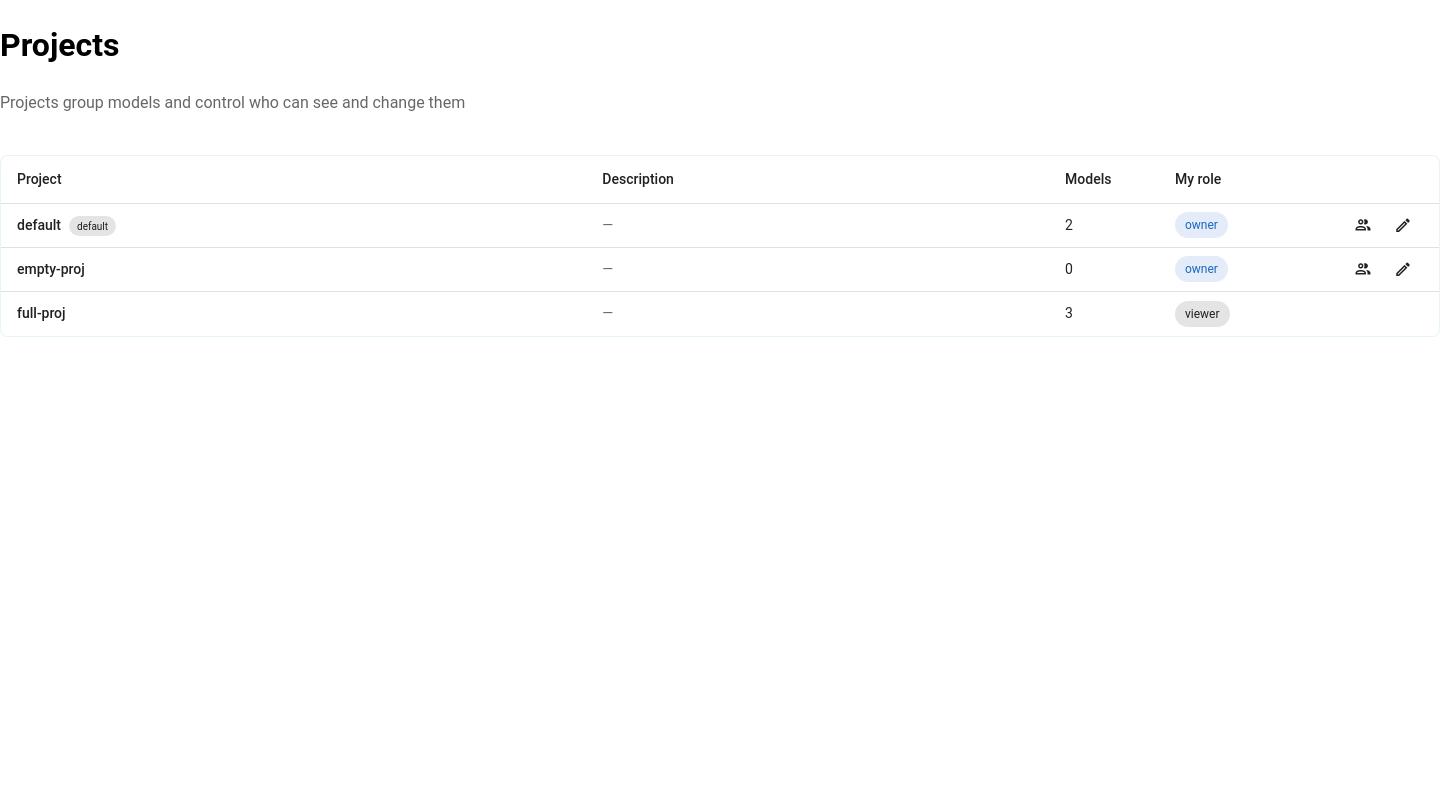
Scenario: ProjectsPage members › shows API errors such as a duplicate member
Click the button named "Members of empty-proj" at (1363, 269), box [1343, 249, 1383, 289]
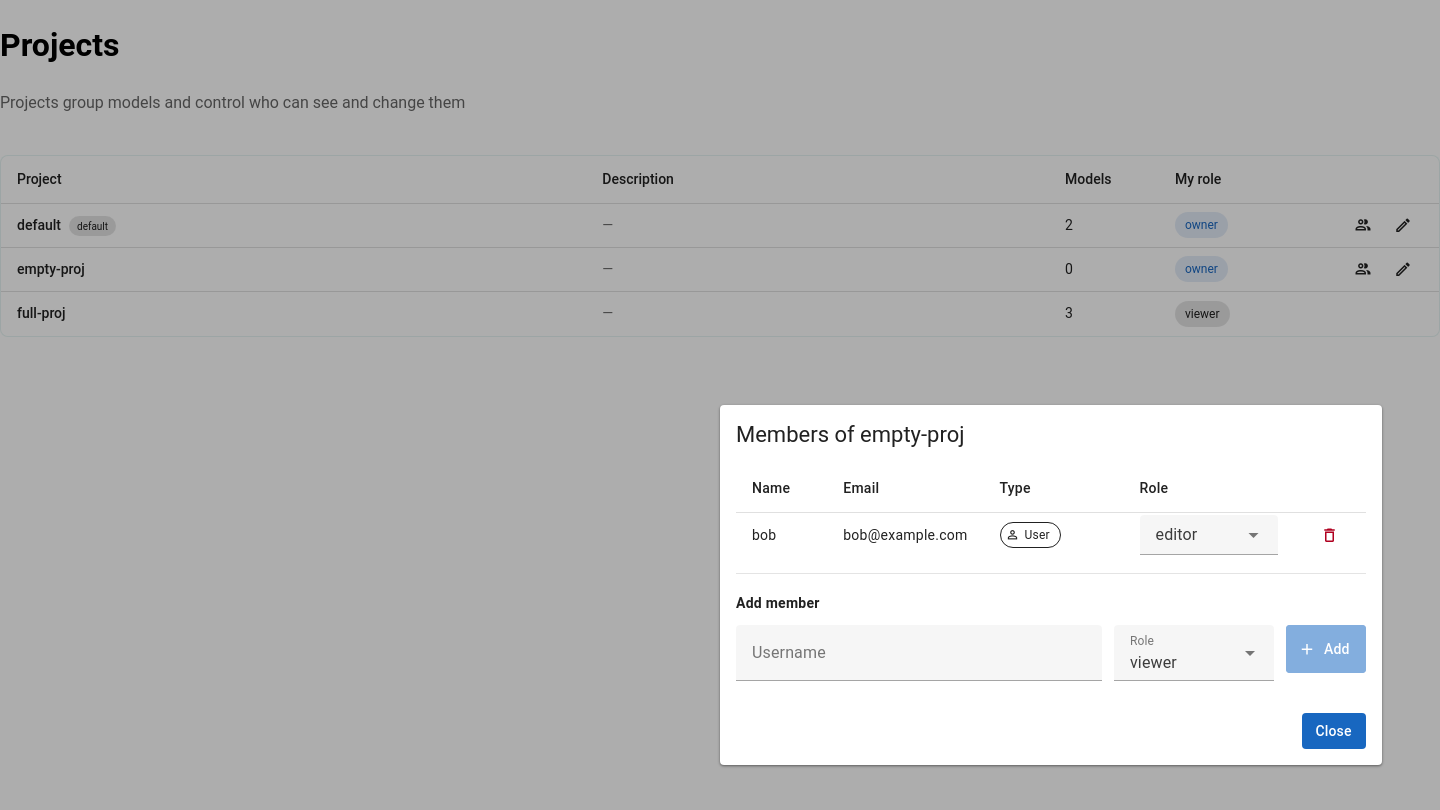
Type "bob" into the field labelled "Username" at (919, 653), box [736, 625, 1102, 681]
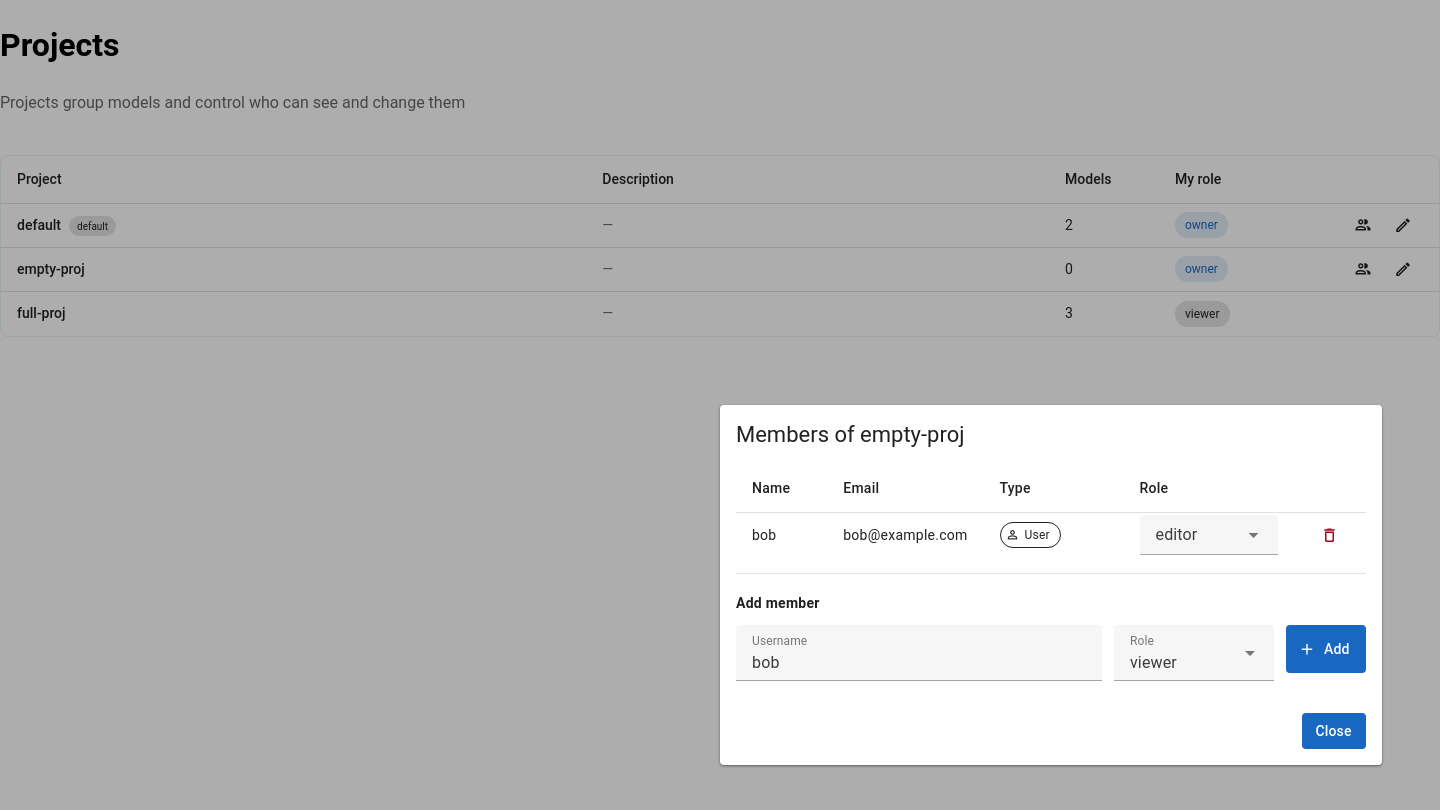
Click the button with test id "add-member" at (1326, 649), box [1286, 625, 1366, 673]
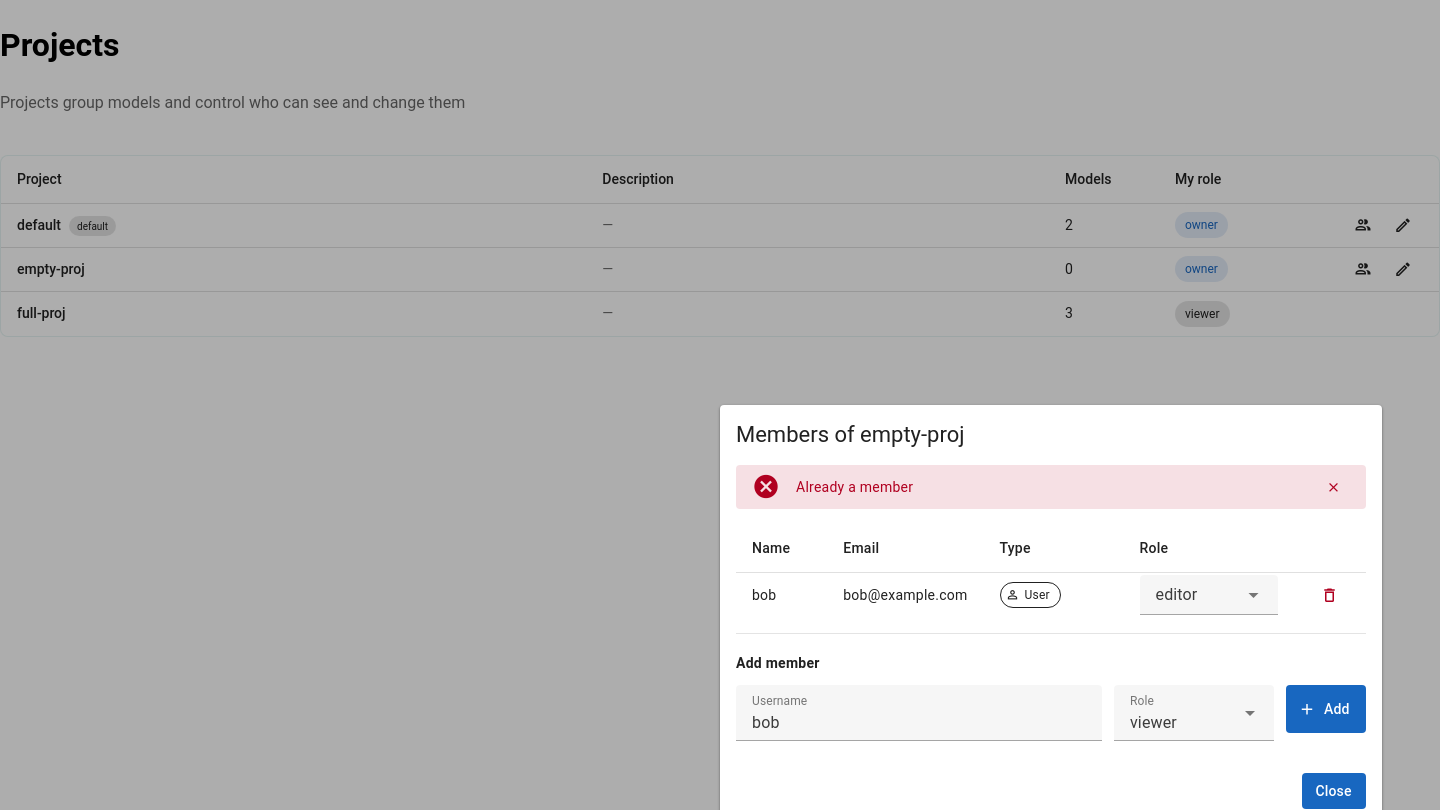
Now the element with test id "members-error" reads "Already a member", box [796, 479, 913, 495]
